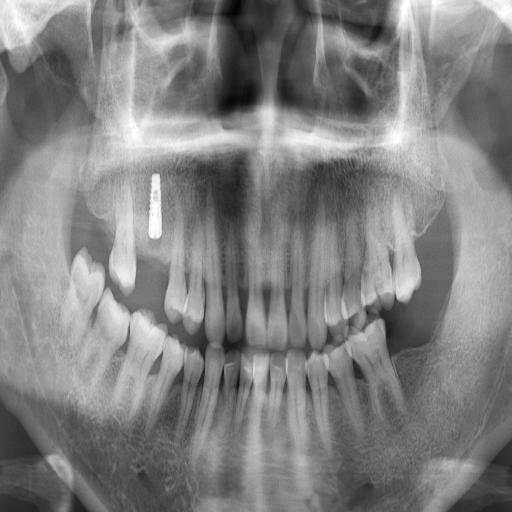Wisdom teeth: (63, 248, 104, 337)
